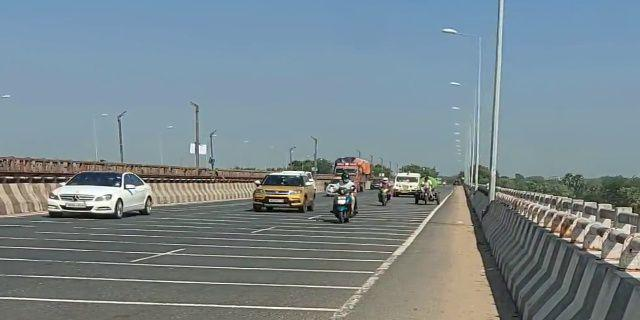Car: (45, 169, 155, 222), (250, 170, 318, 214), (393, 169, 419, 199)
Motorbike: (325, 172, 361, 228), (374, 174, 393, 208)
Van: (410, 172, 442, 211)
